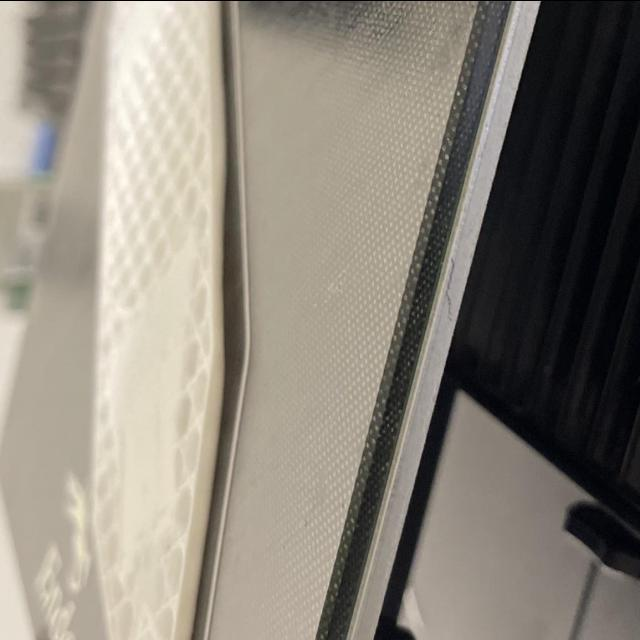Warping: (210, 142, 243, 316)
